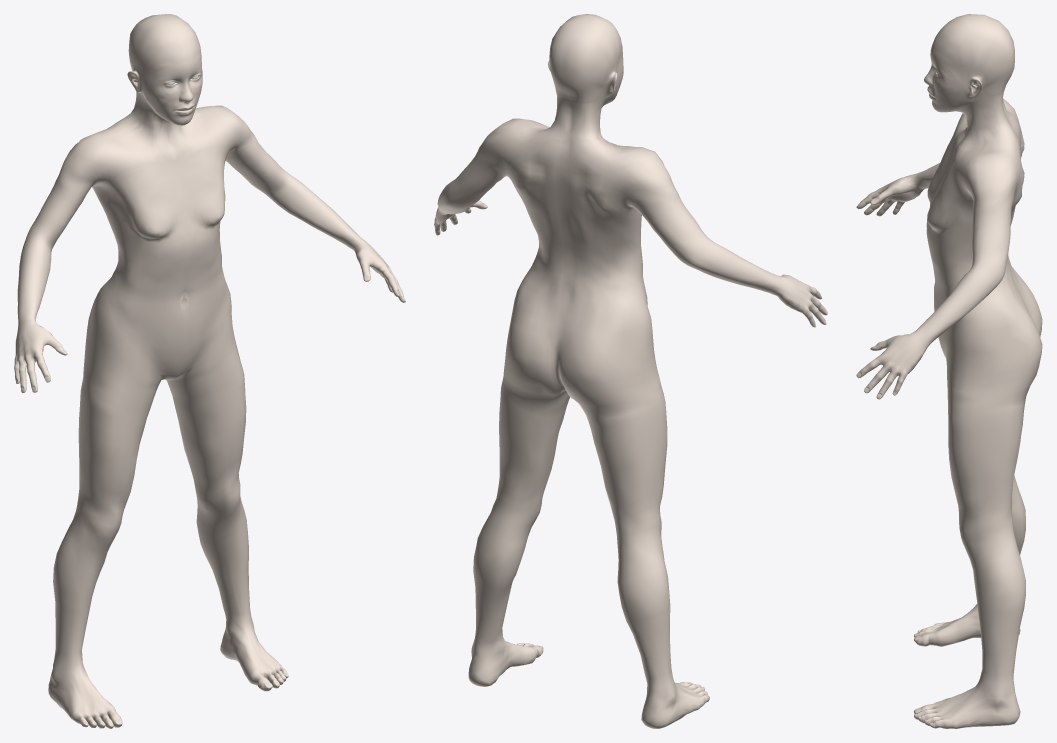
Rendered from body.glb.
3 views of the same model, side by side, from view 1: azimuth 30°, elevation 25°; view 2: azimuth 150°, elevation 25°; view 3: azimuth 270°, elevation 25° (orthographic).
Parts seen in each view (by area): view 1: body; view 2: body; view 3: body.
Boxes of the visible parts, x1=… form: body: x1=14, y1=14, x2=405, y2=728; body: x1=434, y1=14, x2=827, y2=728; body: x1=856, y1=14, x2=1042, y2=728.
Size of the model in its own units: 0.9925 by 1.67 by 0.423.
